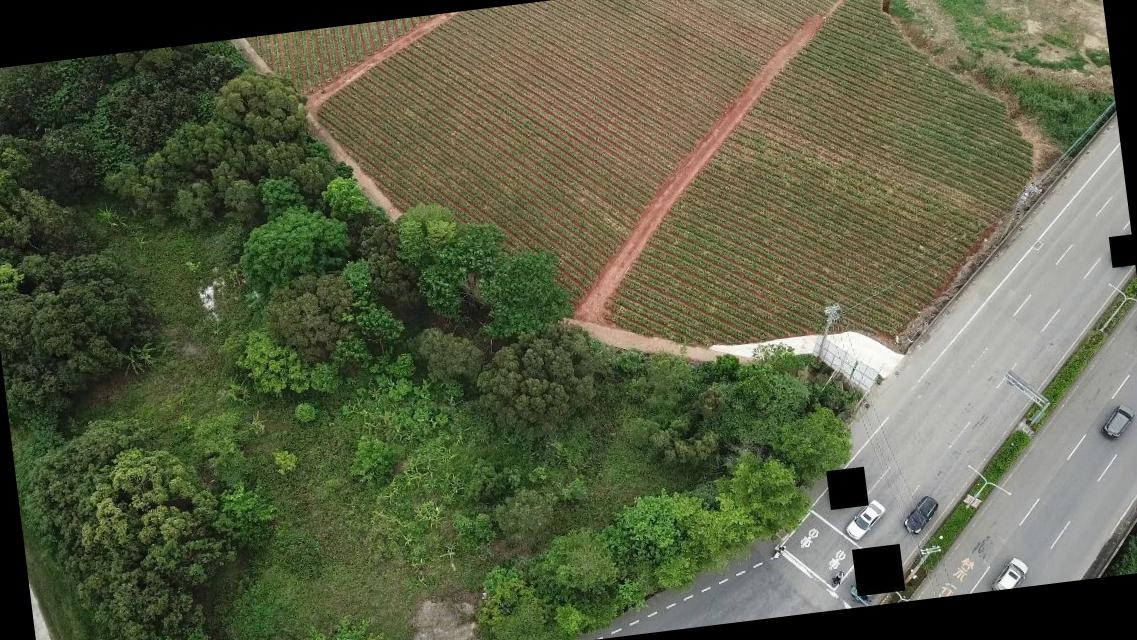vehicle: (840, 497, 888, 540), (900, 492, 940, 534), (1096, 402, 1136, 440), (988, 555, 1030, 590)
